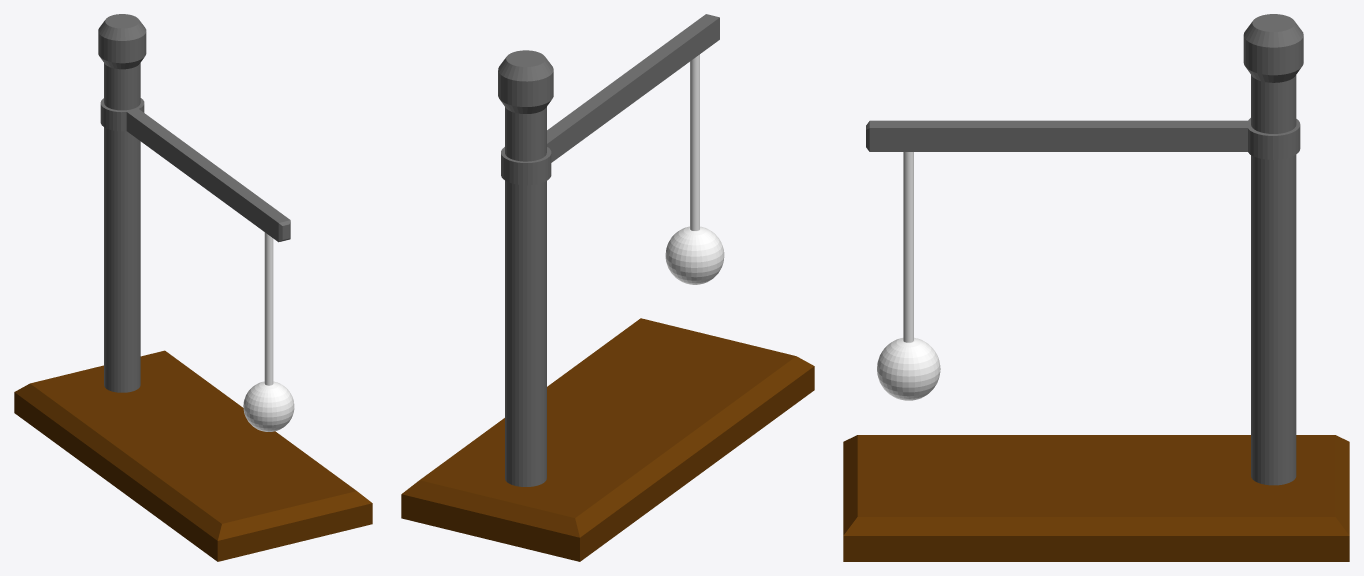
The model's file is Pendulum.fbx.
3 renders of one model, left to right at view 1: azimuth 30°, elevation 25°; view 2: azimuth 150°, elevation 25°; view 3: azimuth 270°, elevation 25°, orthographic. The views are drawn at different scales.
Parts seen in each view (by area): view 1: Cube, Sphere, Cylinder.001; view 2: Cube, Sphere, Cylinder.001; view 3: Cube, Sphere, Cylinder.001.
Part boxes in pixels (left/top/right/bottom): Cube: left=14, top=14, right=372, bottom=561; Sphere: left=243, top=381, right=294, bottom=431; Cylinder.001: left=264, top=232, right=273, bottom=385; Cube: left=401, top=14, right=814, bottom=561; Sphere: left=665, top=226, right=724, bottom=284; Cylinder.001: left=690, top=54, right=699, bottom=230; Cube: left=843, top=14, right=1349, bottom=561; Sphere: left=877, top=337, right=940, bottom=400; Cylinder.001: left=903, top=152, right=913, bottom=342.
Bounding box in the file's own units: 87.9 × 214 × 200.
